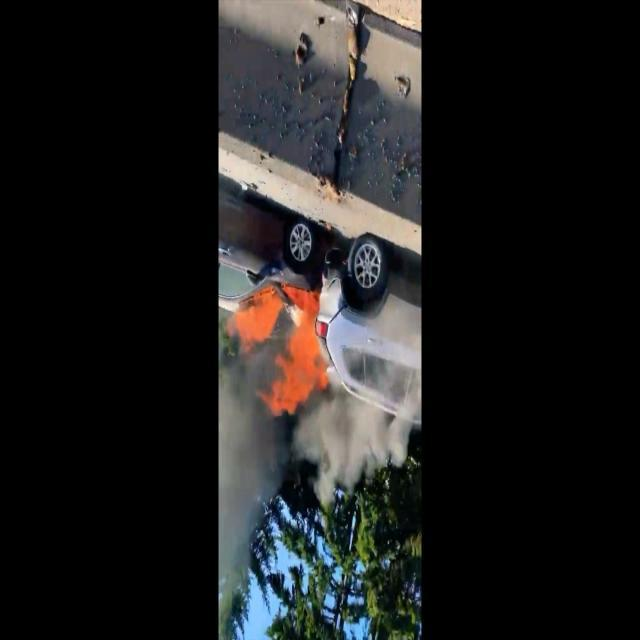fire: (226, 276, 331, 422)
